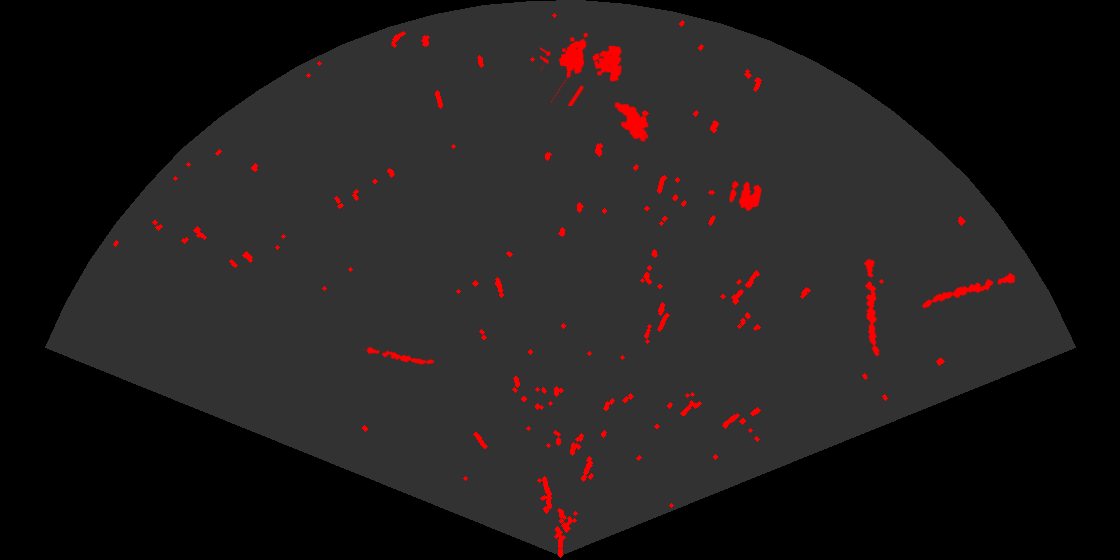AUV: (613, 100, 650, 143)
ball: (728, 179, 763, 212)
cage: (540, 31, 624, 106)
chain: (920, 271, 1018, 310), (862, 258, 881, 358), (362, 345, 435, 366)
